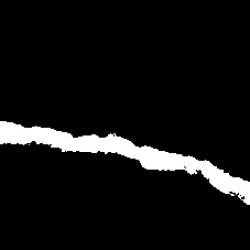crack: (2, 120, 249, 205)
